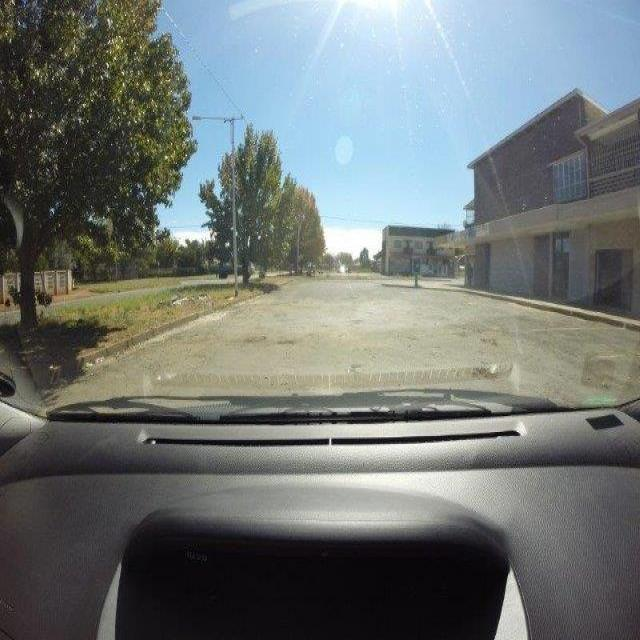lubang: (465, 360, 500, 380)
